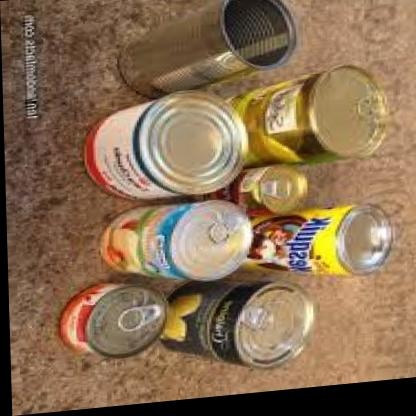trash: (85, 66, 384, 198), (85, 92, 246, 198), (118, 0, 295, 96), (160, 282, 315, 367), (101, 200, 251, 280), (248, 206, 392, 274), (60, 283, 165, 355)
